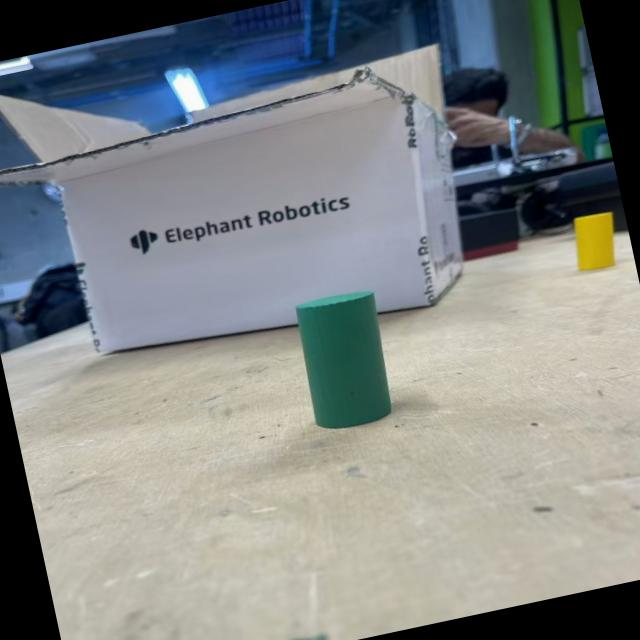green_cylinder: (290, 284, 405, 434)
